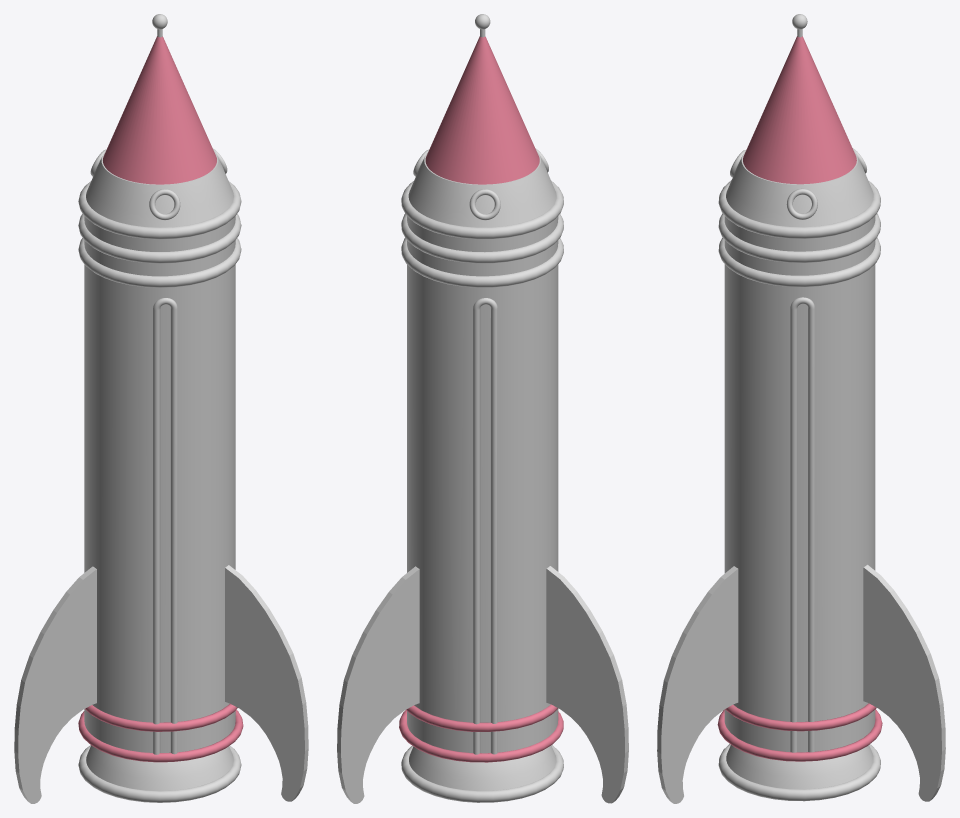
File: Rocket.fbx
The picture shows the model from 3 angles, left to right: view 1: azimuth 30°, elevation 25°; view 2: azimuth 150°, elevation 25°; view 3: azimuth 270°, elevation 25°; orthographic projection.
Parts seen in each view (by area): view 1: Circle.006; view 2: Circle.006; view 3: Circle.006.
Part boxes in pixels (x1=…): Circle.006: x1=14, y1=14, x2=308, y2=803; Circle.006: x1=337, y1=14, x2=628, y2=803; Circle.006: x1=657, y1=14, x2=945, y2=803.
Size of the model in its own units: 325 by 1052 by 365.
